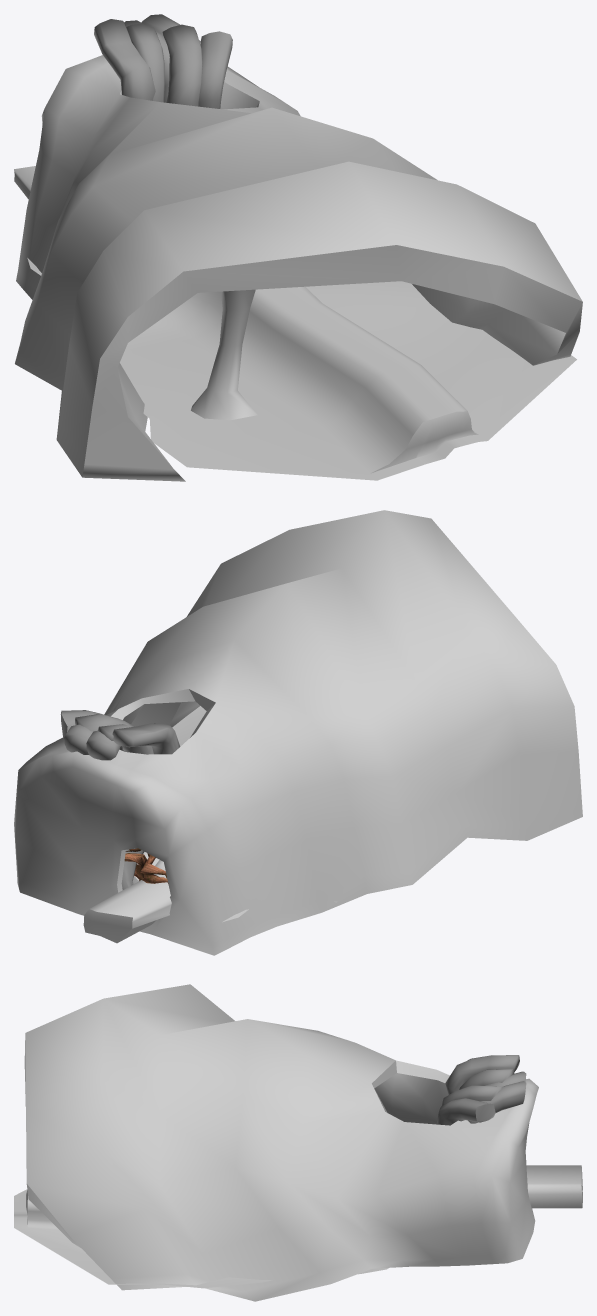
File: Boss fight background.fbx
The picture shows the model from 3 angles, top to bottom: view 1: azimuth 30°, elevation 25°; view 2: azimuth 150°, elevation 25°; view 3: azimuth 270°, elevation 25°; orthographic projection. The views are drawn at different scales.
Parts seen in each view (by area): view 1: cave top, cave bottom, world tree roots; view 2: cave top, world tree roots, cave bottom, root gate; view 3: cave top, cave bottom, world tree roots.
Boxes of the visible parts, x1,y1,x2,y2 form: cave top: (15,55,582,481); cave bottom: (14,166,576,480); world tree roots: (94,14,232,108); cave top: (14,510,582,955); world tree roots: (60,710,180,889); cave bottom: (83,706,337,943); root gate: (124,848,168,883); cave top: (24,984,538,1301); cave bottom: (14,1165,582,1288); world tree roots: (437,1055,526,1125).
Bounding box in the file's own units: 554 × 323 × 731.
